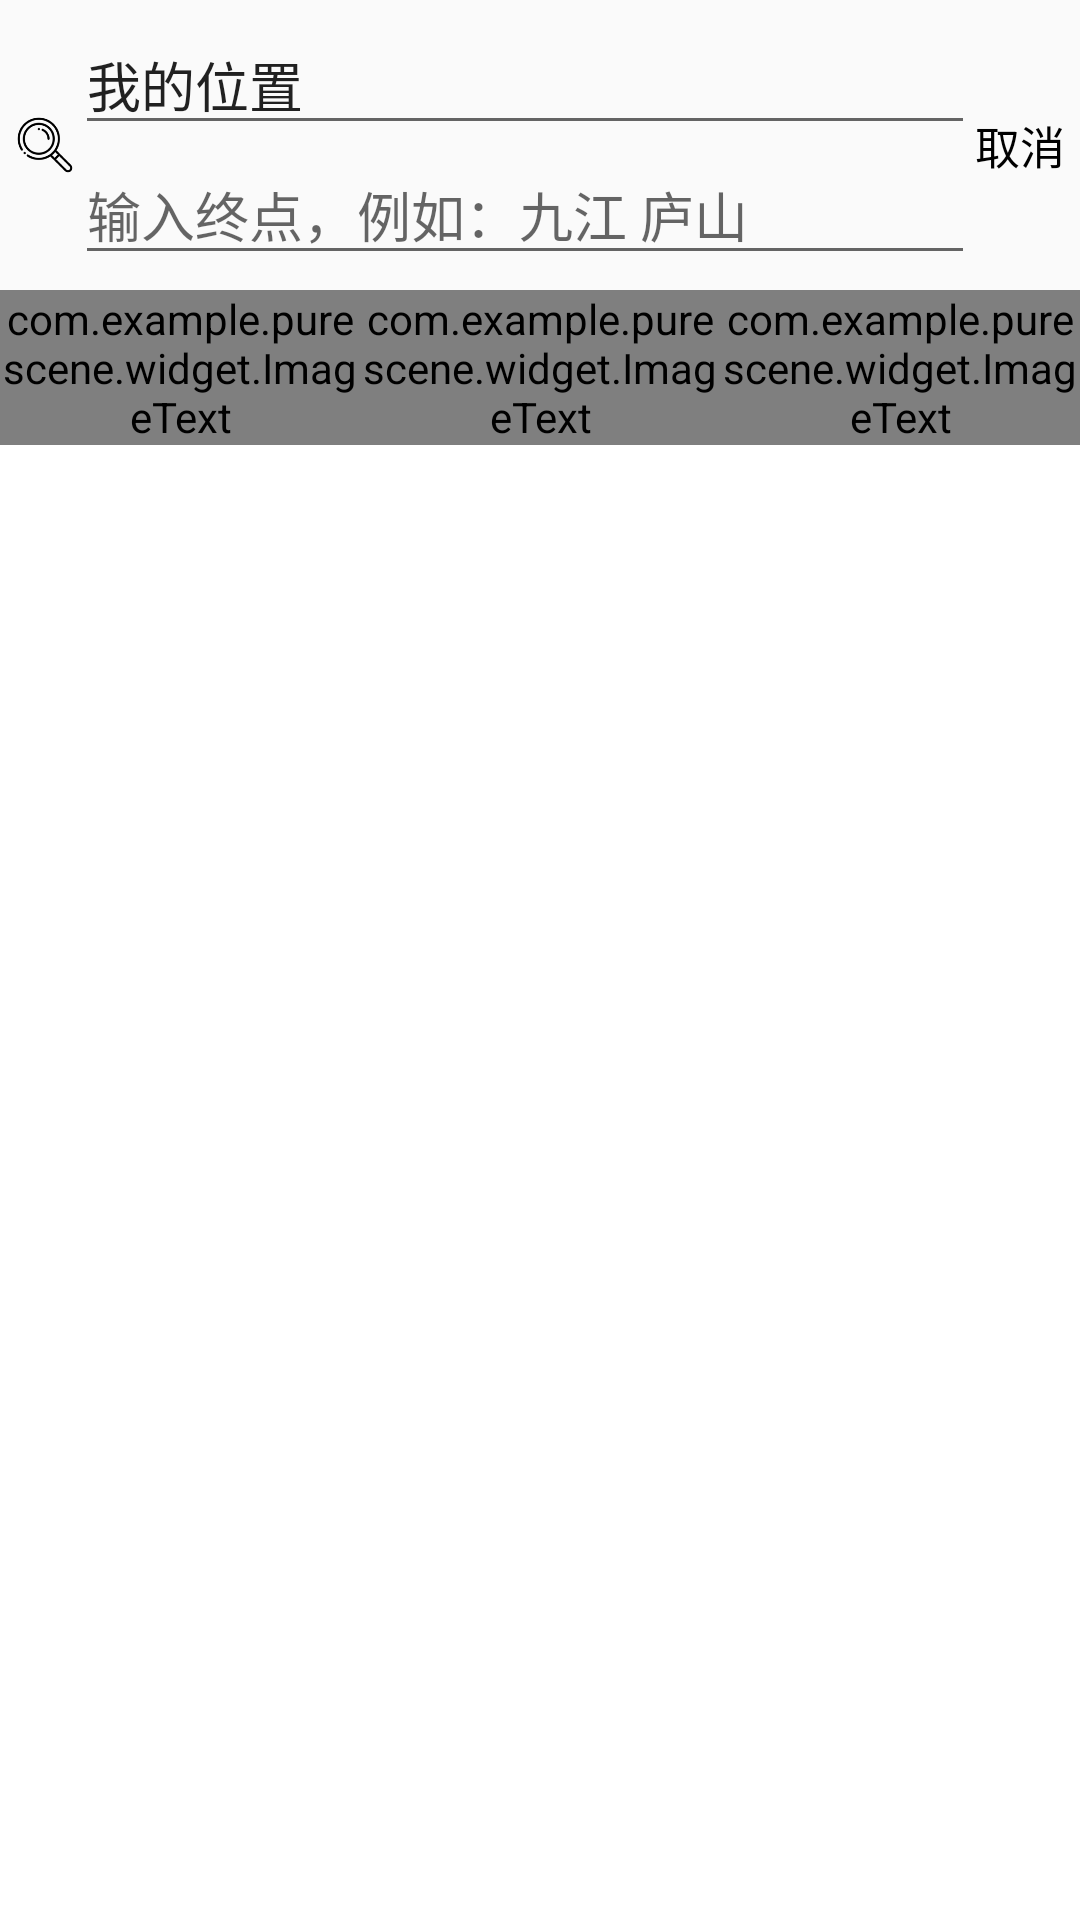

Point at icon controls on the screen. Image size 1080 × 1920, points as [x,y].
search: [45,145]
